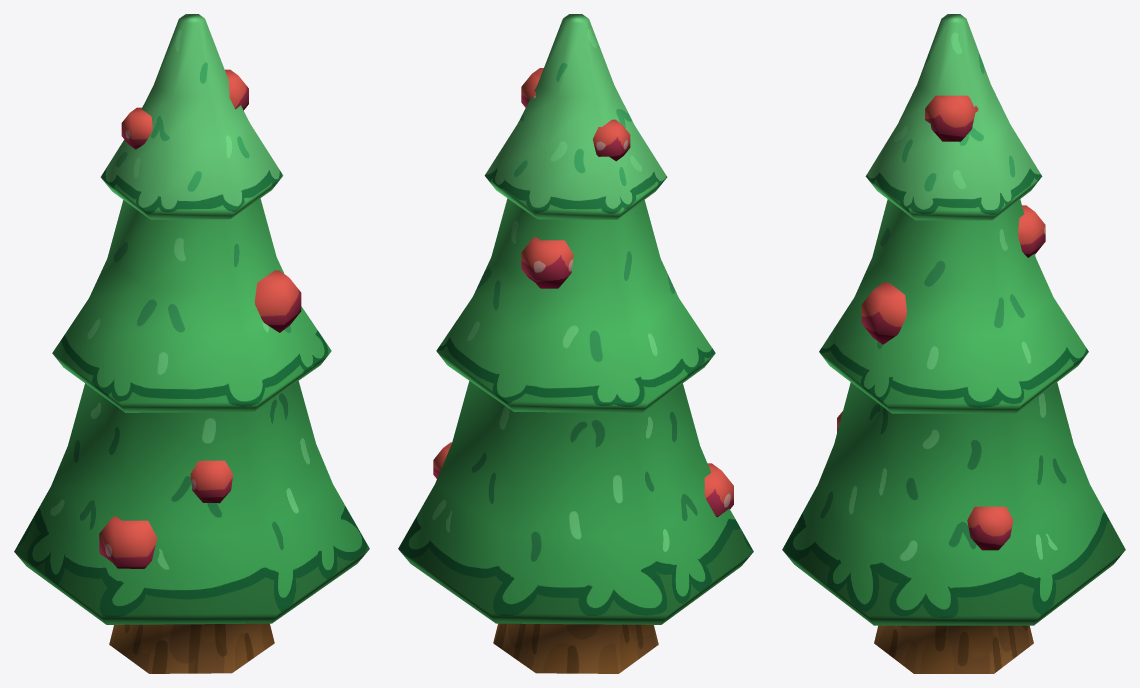
File: Decoration_SmallAppleTree001_Model.fbx
3 renders of one model, left to right at view 1: azimuth 30°, elevation 25°; view 2: azimuth 150°, elevation 25°; view 3: azimuth 270°, elevation 25°, orthographic.
Visible parts, largest first — view 1: Tree Apples Small; view 2: Tree Apples Small; view 3: Tree Apples Small.
Boxes of the visible parts, left/top/right/bottom form: Tree Apples Small: left=14, top=14, right=369, bottom=673; Tree Apples Small: left=398, top=14, right=753, bottom=673; Tree Apples Small: left=782, top=14, right=1125, bottom=673.
Bounding box in the file's own units: 76.76 × 170 × 84.77.
